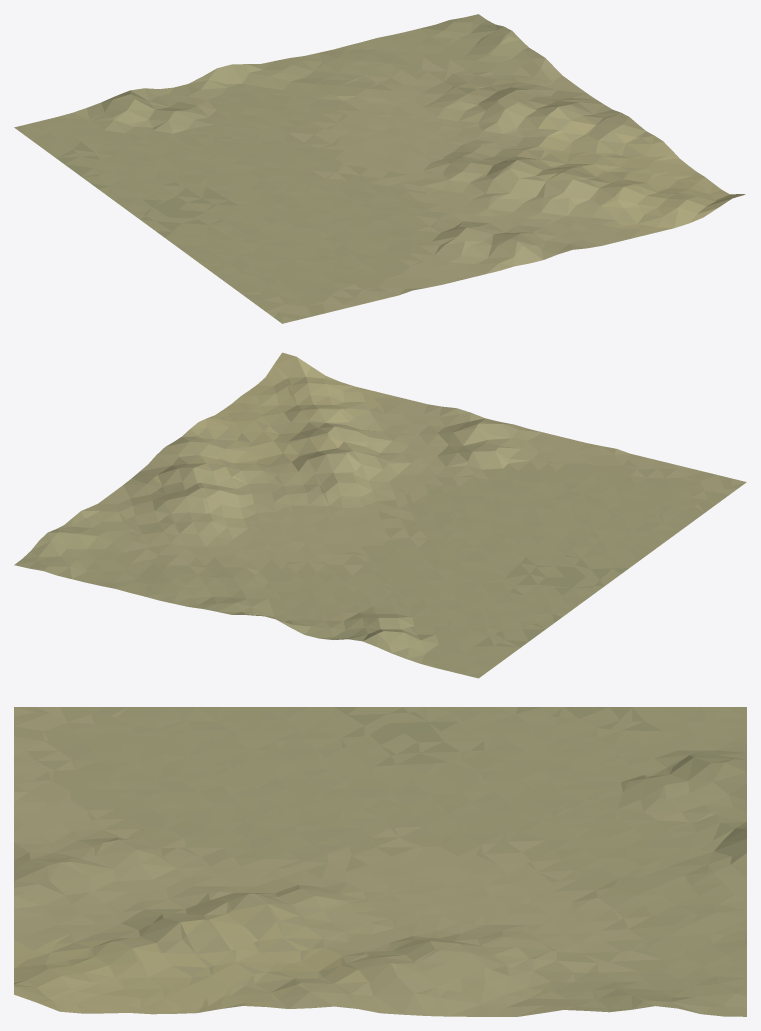
The model's file is Ground_2_3.glb.
3 renders of one model, top to bottom at view 1: azimuth 30°, elevation 25°; view 2: azimuth 150°, elevation 25°; view 3: azimuth 270°, elevation 25°, orthographic. The views are drawn at different scales.
Parts seen in each view (by area): view 1: Ground_2_3; view 2: Ground_2_3; view 3: Ground_2_3.
Boxes of the visible parts, <box> form: Ground_2_3: <box>14,14,745,323</box>; Ground_2_3: <box>14,352,746,678</box>; Ground_2_3: <box>14,707,746,1016</box>.
Size of the model in its own units: 768 by 25.69 by 768.
